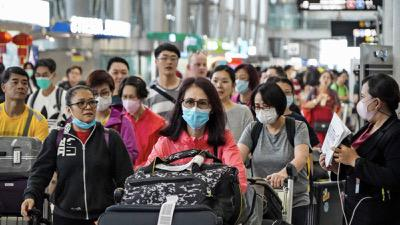mask_weared_incorrect: (70, 96, 97, 123)
with_mask: (181, 96, 212, 131), (92, 86, 112, 113), (254, 102, 278, 124), (356, 92, 374, 121), (121, 93, 140, 115), (278, 88, 294, 111), (34, 71, 52, 91), (232, 73, 249, 94), (22, 67, 33, 79)
without_mask: (4, 77, 29, 100), (210, 76, 232, 100), (157, 53, 177, 76), (109, 67, 128, 88), (190, 59, 208, 78), (67, 70, 79, 84), (320, 75, 332, 88)
